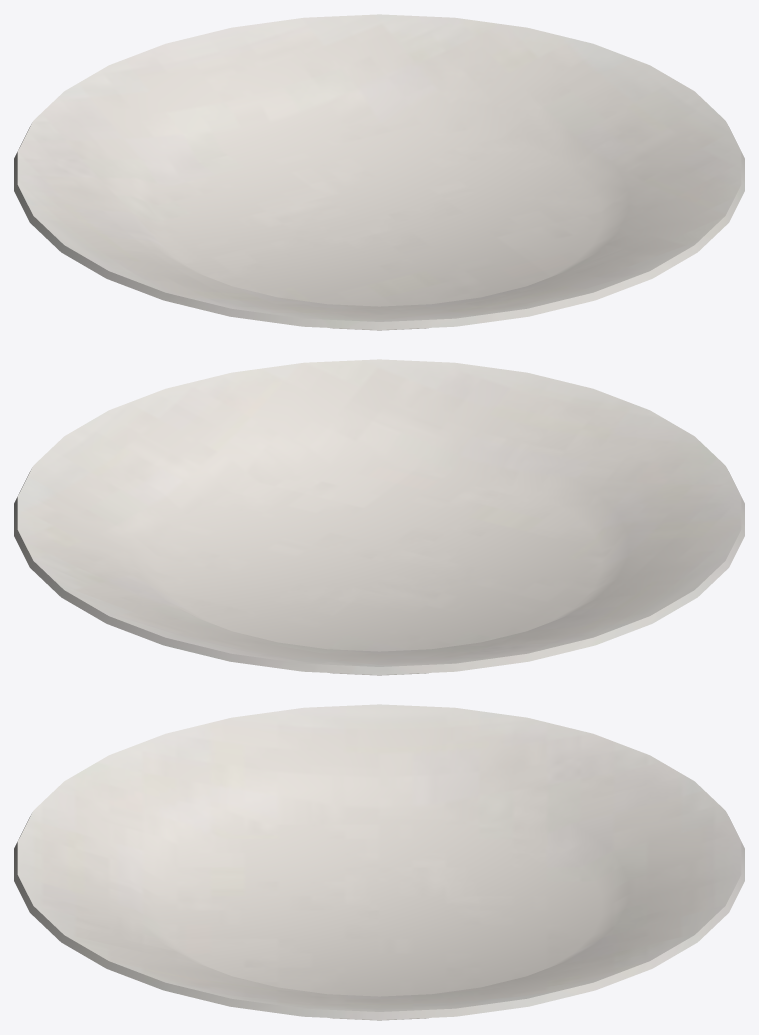
Rendered from T_Kitchen_Plate_02.glb.
3 renders of one model, top to bottom at view 1: azimuth 30°, elevation 25°; view 2: azimuth 150°, elevation 25°; view 3: azimuth 270°, elevation 25°, orthographic.
Parts seen in each view (by area): view 1: T_Kitchen_Plate_02; view 2: T_Kitchen_Plate_02; view 3: T_Kitchen_Plate_02.
Boxes of the visible parts, x1,y1,x2,y2 form: T_Kitchen_Plate_02: (14,14,744,330); T_Kitchen_Plate_02: (14,359,744,675); T_Kitchen_Plate_02: (14,704,744,1020).
Bounding box in the file's own units: 0.2651 × 0.0269 × 0.2636.
Materials: 1 (1 with a texture image).
